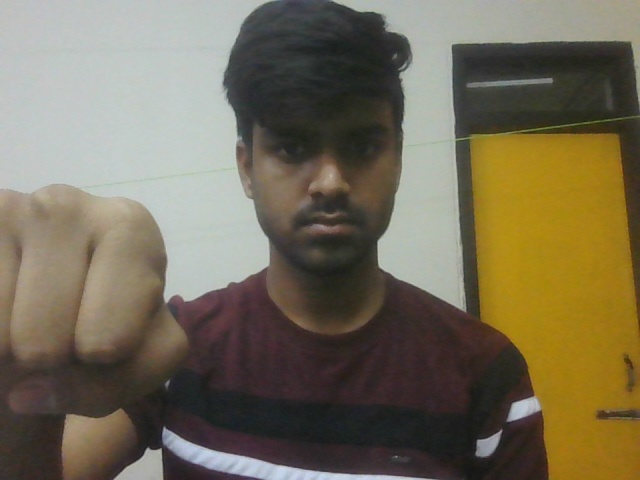yes: (1, 171, 215, 426)
